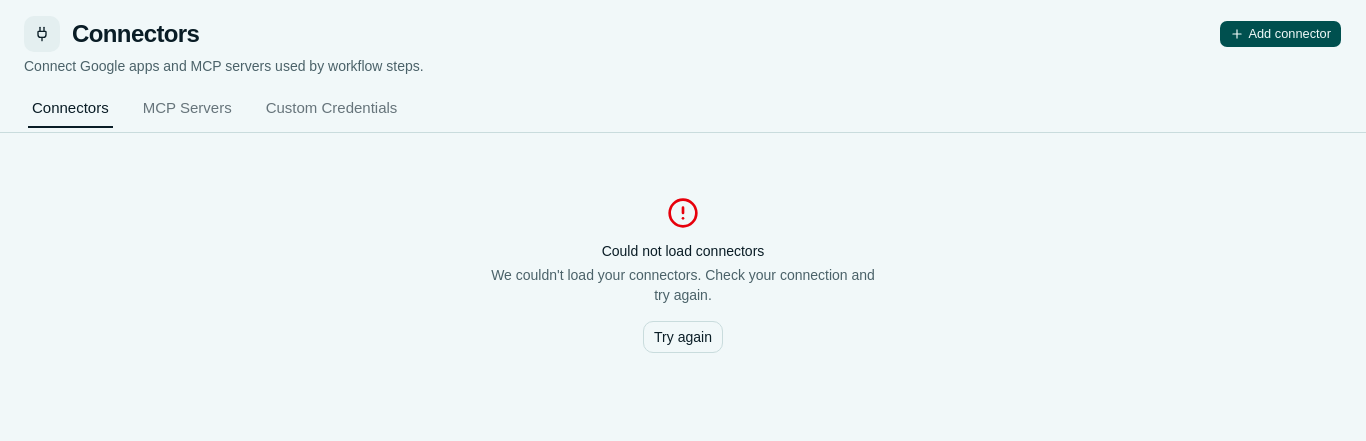
Test: IntegrationsPage › shows human error copy and retries after a failed load
Expected: the message is shown, [491,197,875,353]
Expected: the text "Could not load connectors" is shown, [602,241,764,261]
Click the button "Try again" at (683, 337), box [643,321,723,353]
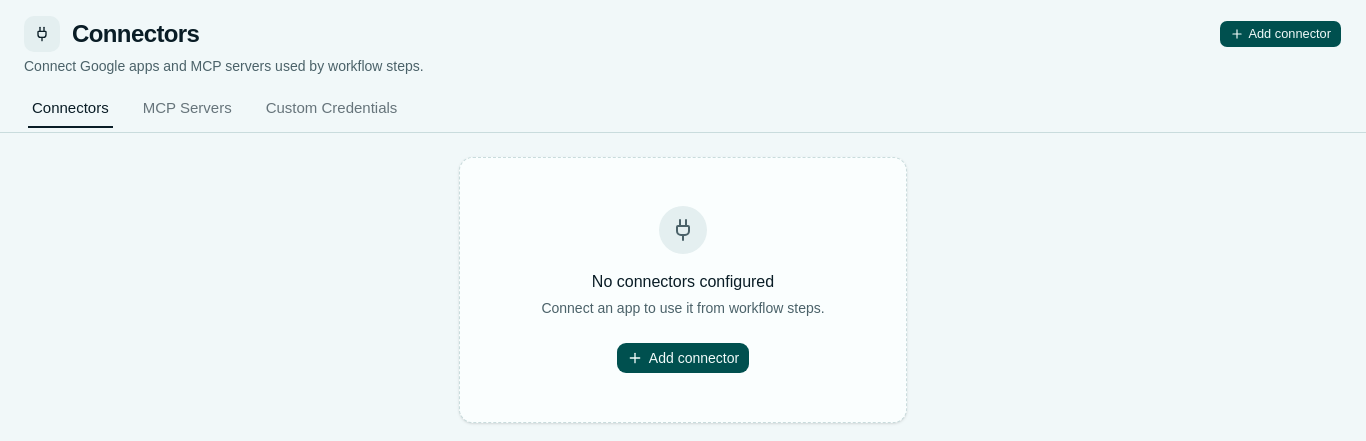
Expected: the heading "No connectors configured" is shown, [592,270,774,294]
